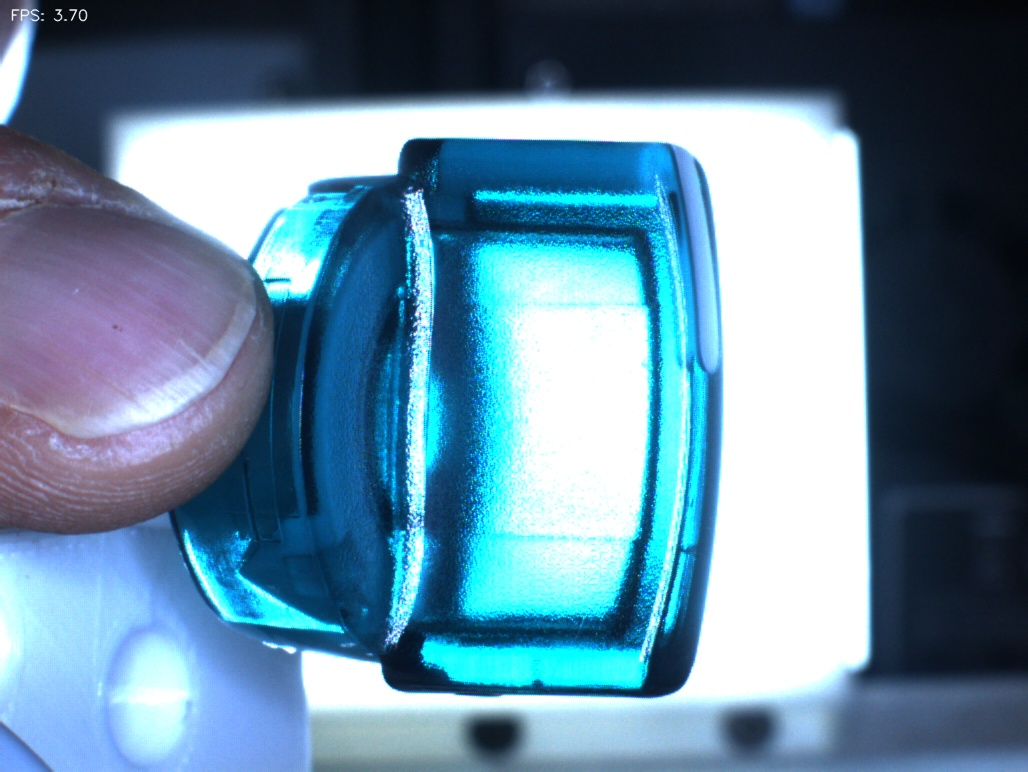Bulle: (501, 648, 580, 719)
